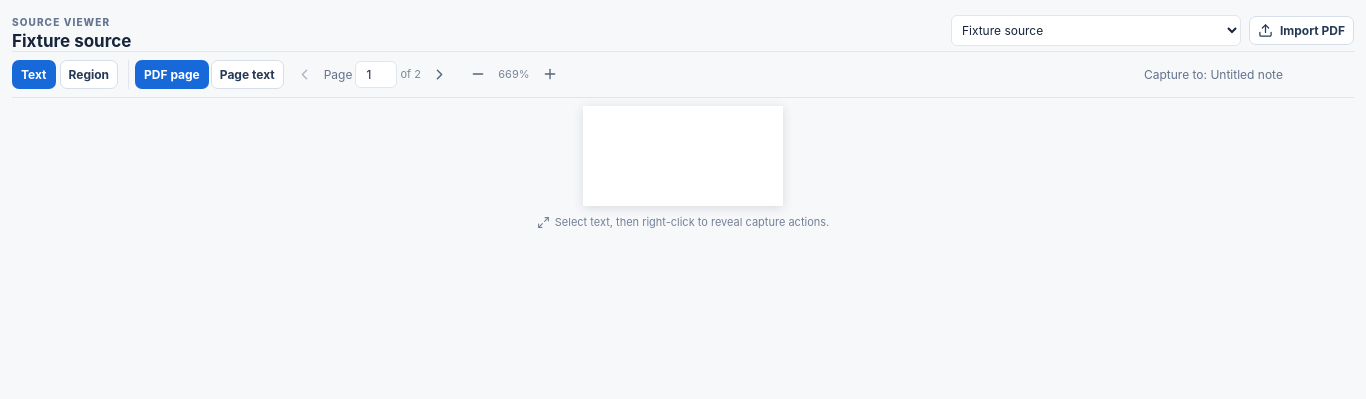
it: PDF interaction regression › preserves edited text through zoom, clamps committed pages and clears printed provenance on page changes
Click the button "Page text" at (247, 74), box [211,60,284,88]
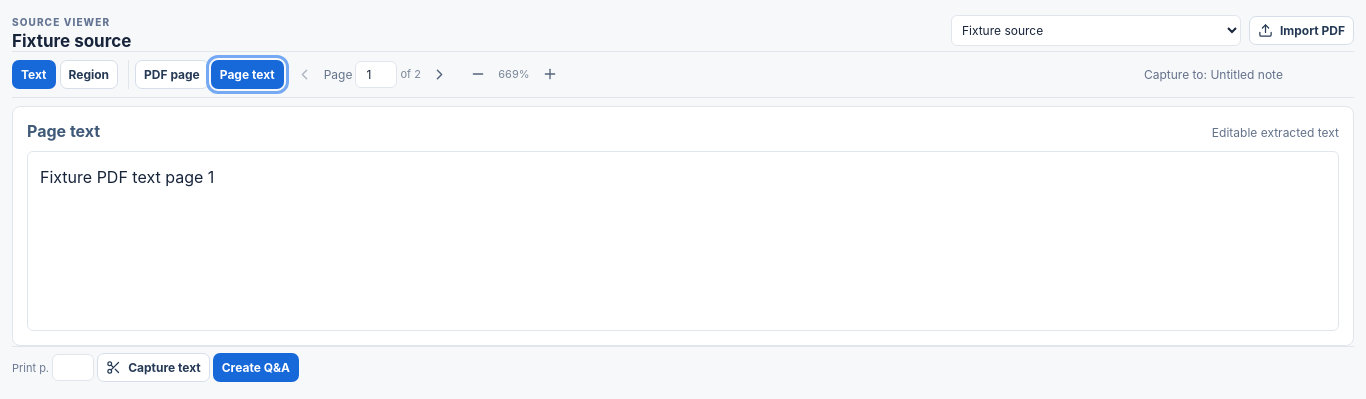
Result: the text box named "Selected PDF text" holds "Fixture PDF text page 1"
Replace the text in the text box named "Selected PDF text" with "Edited evidence" at (683, 241), box [27,151,1339,331]
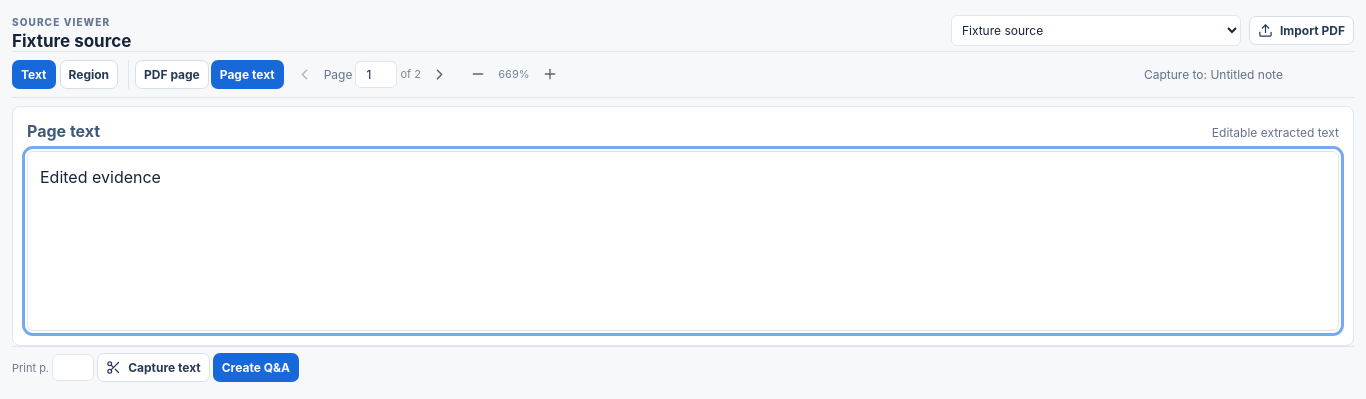
Click the button named "Zoom in" at (550, 74), box [533,57,567,91]
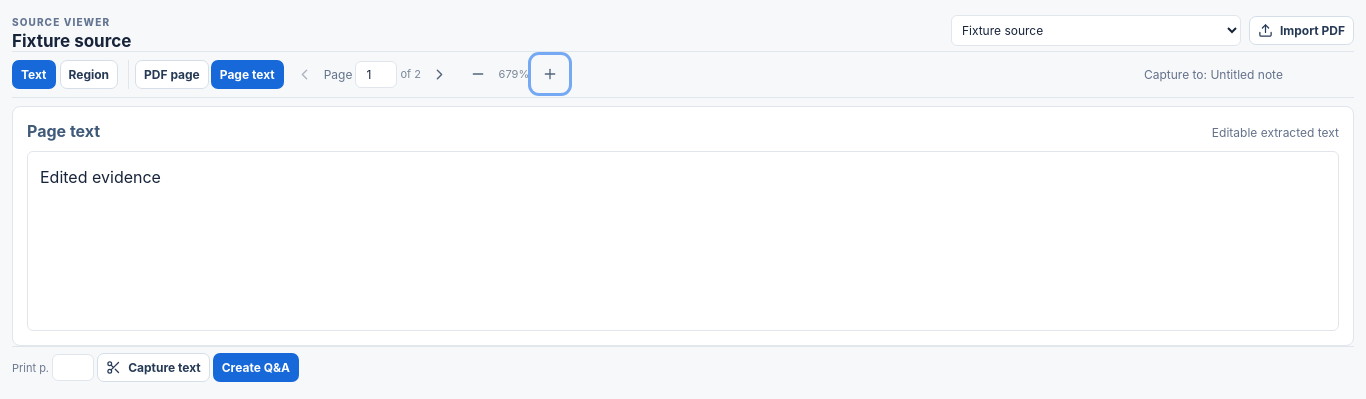
Replace the text in the number field named "PDF page" with "999" at (376, 74), box [355,60,397,88]
Press Enter in the number field named "PDF page", box [355,60,397,88]
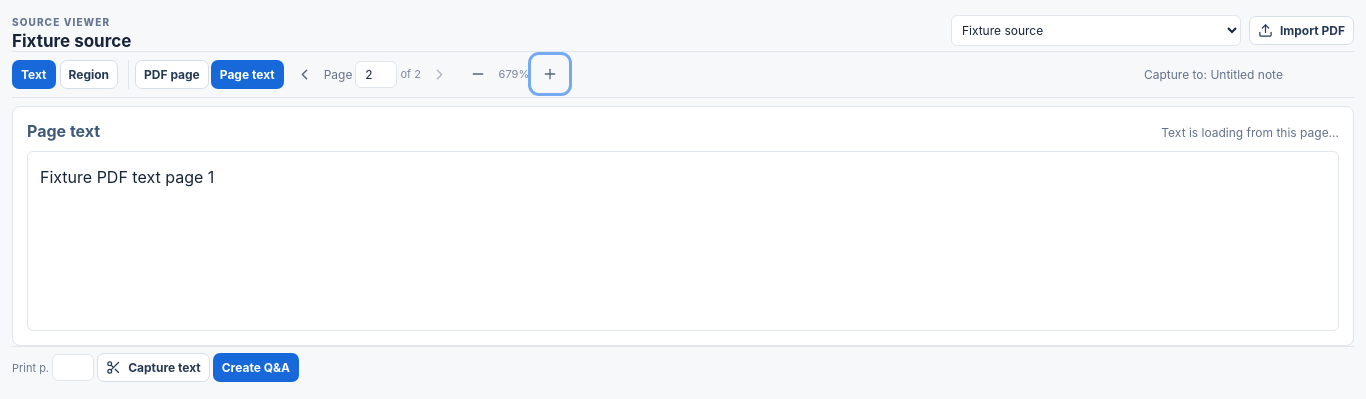
Result: the number field named "PDF page" holds "2" at [355,60,397,88]
Type "77" into the number field named "Printed page" at (73, 368), box [52,354,94,381]
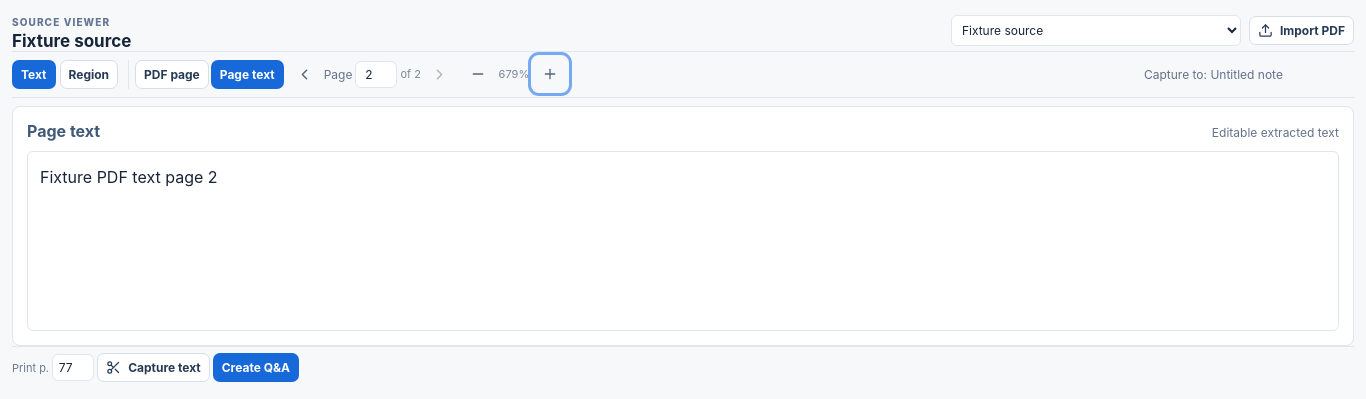
Click the button named "Previous page" at (305, 74), box [288,57,322,91]
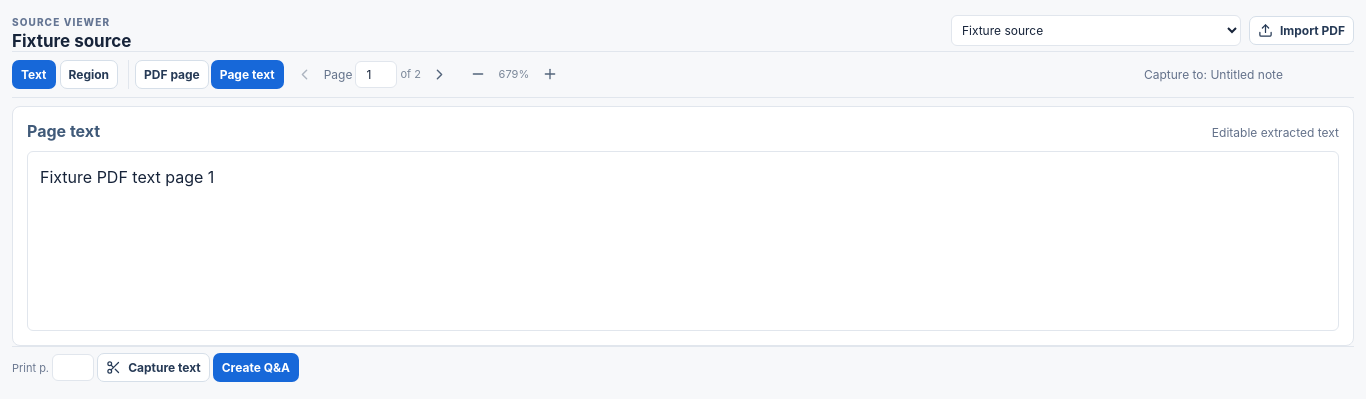
Result: the number field named "Printed page" is not empty at [52,354,94,381]
